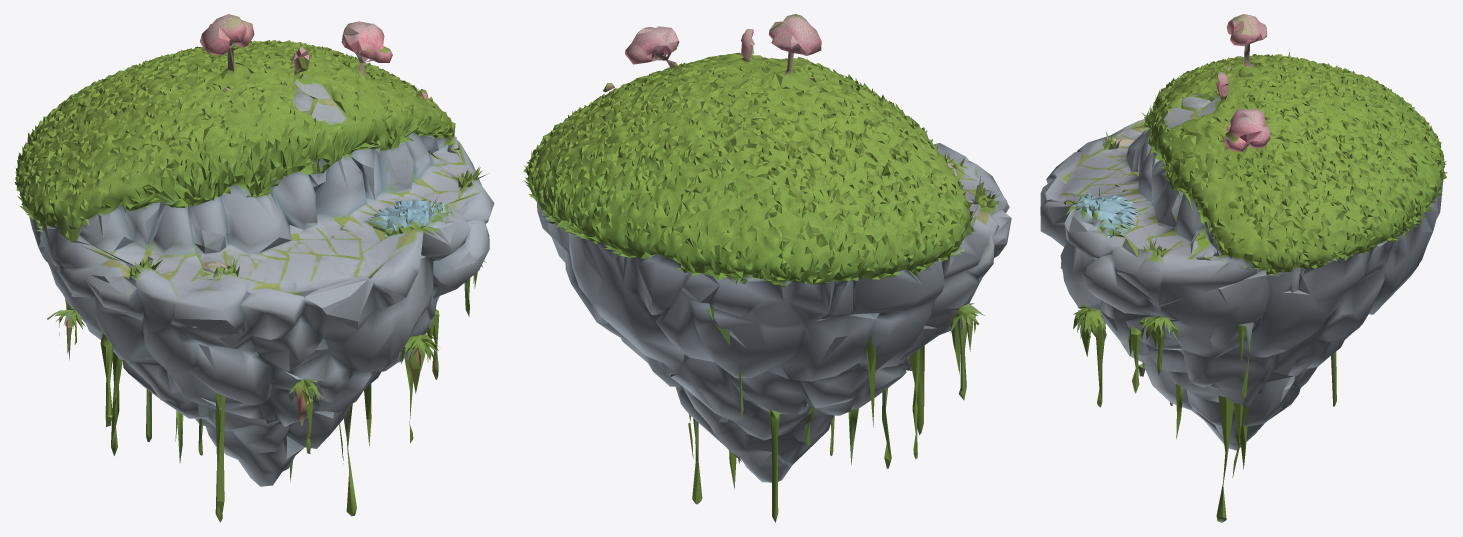
Rendered from island.fbx.
The picture shows the model from 3 angles, left to right: view 1: azimuth 30°, elevation 25°; view 2: azimuth 150°, elevation 25°; view 3: azimuth 270°, elevation 25°; orthographic projection. The views are drawn at different scales.
Visible parts, largest first — view 1: Mesh_0; view 2: Mesh_0; view 3: Mesh_0.
Part boxes in pixels (x1,y1,x2,y2): Mesh_0: [14, 14, 494, 522]; Mesh_0: [523, 14, 1011, 522]; Mesh_0: [1040, 14, 1447, 522].
Size of the model in its own units: 159 by 190 by 153.
1 material, 1 textured.
